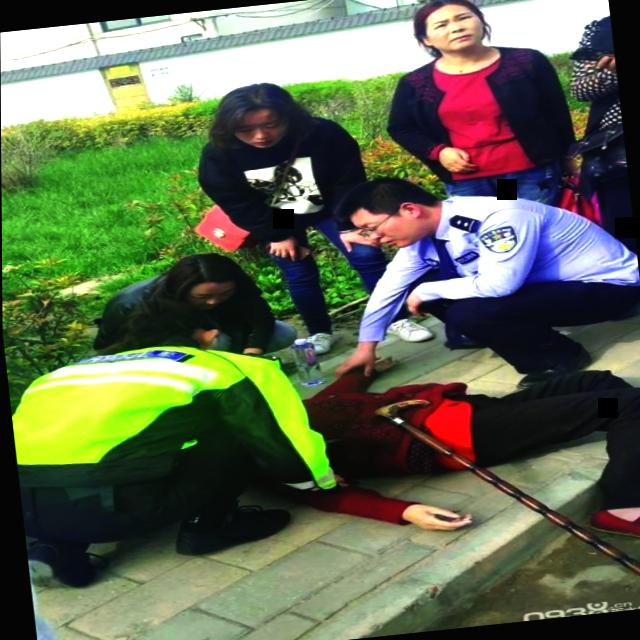Fall-Detected: (210, 321, 640, 578)
